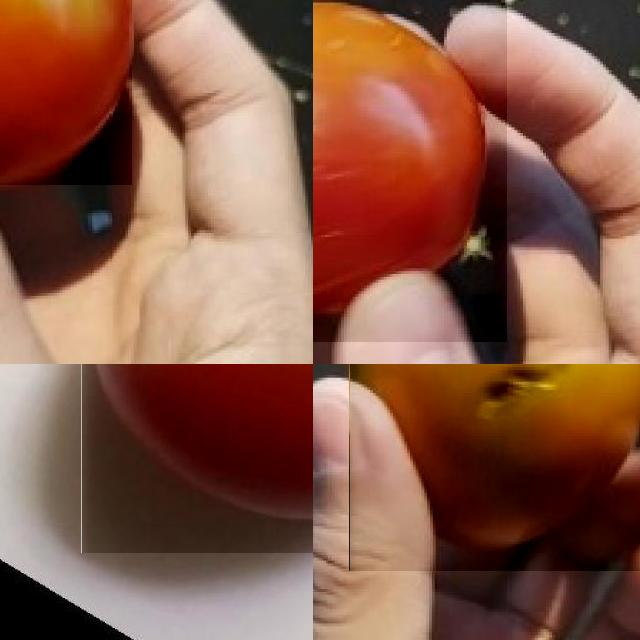Fresh Tomato: (81, 364, 313, 553)
Rotten Tomato: (313, 0, 507, 342), (349, 364, 640, 571)
